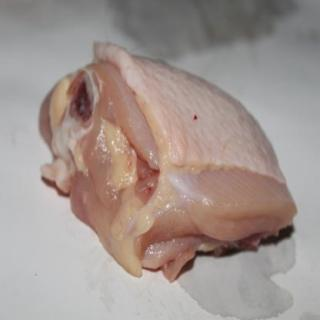Ayam: (38, 40, 299, 284)
